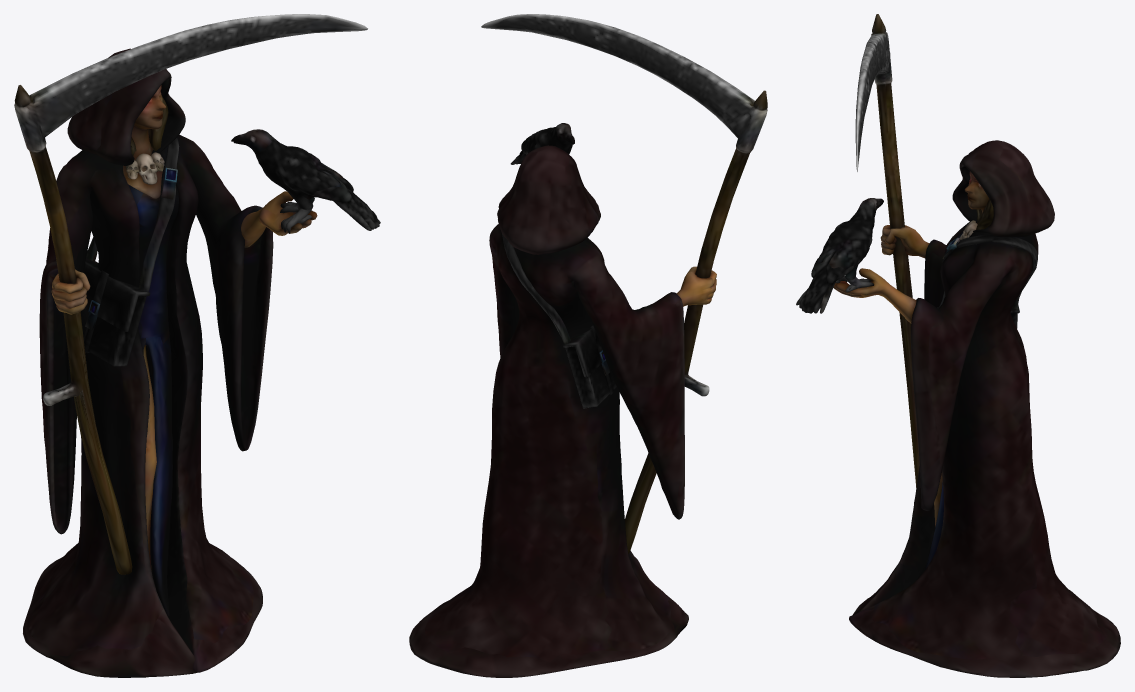
File: MZ4250 - Human Female Necromancy Wizard_3.glb
3 views of the same model, side by side, from view 1: azimuth 30°, elevation 25°; view 2: azimuth 150°, elevation 25°; view 3: azimuth 270°, elevation 25° (orthographic). The views are drawn at different scales.
Parts seen in each view (by area): view 1: Crow t.001; view 2: Crow t.001; view 3: Crow t.001.
Part boxes in pixels (x1,y1,x2,y2): Crow t.001: [14, 14, 380, 677]; Crow t.001: [409, 14, 767, 677]; Crow t.001: [796, 14, 1120, 677].
Bounding box in the file's own units: 0.5925 × 1.07 × 0.5638.
1 material, 1 textured.
